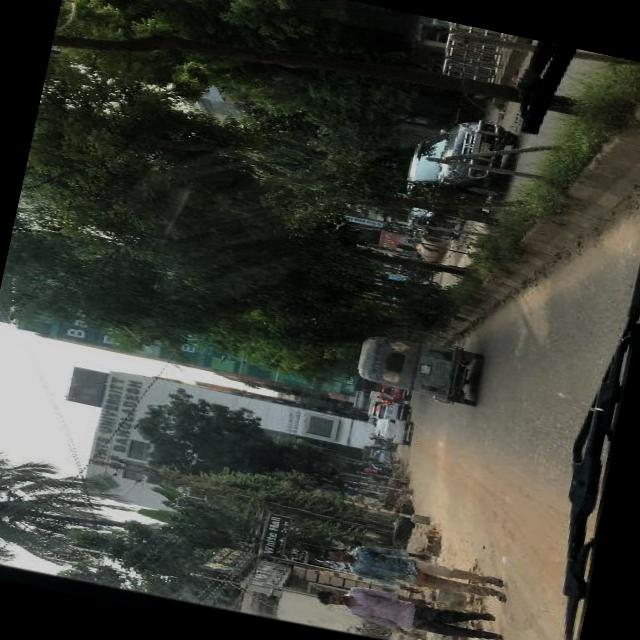car: (400, 106, 518, 207), (376, 399, 410, 422), (382, 417, 409, 444), (377, 384, 408, 399)
motorcycle: (354, 329, 478, 404), (396, 261, 440, 283), (360, 436, 398, 461)
